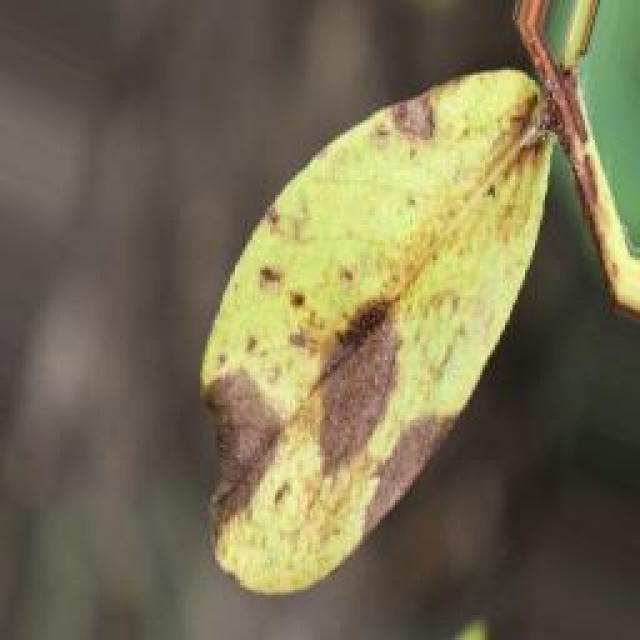Yellowish: (163, 39, 577, 592)
